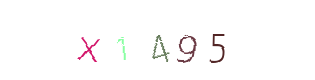1: (117, 0, 197, 80)
4: (118, 0, 198, 80)
5: (162, 0, 242, 80)
9: (135, 0, 215, 80)
X: (49, 0, 129, 80)
